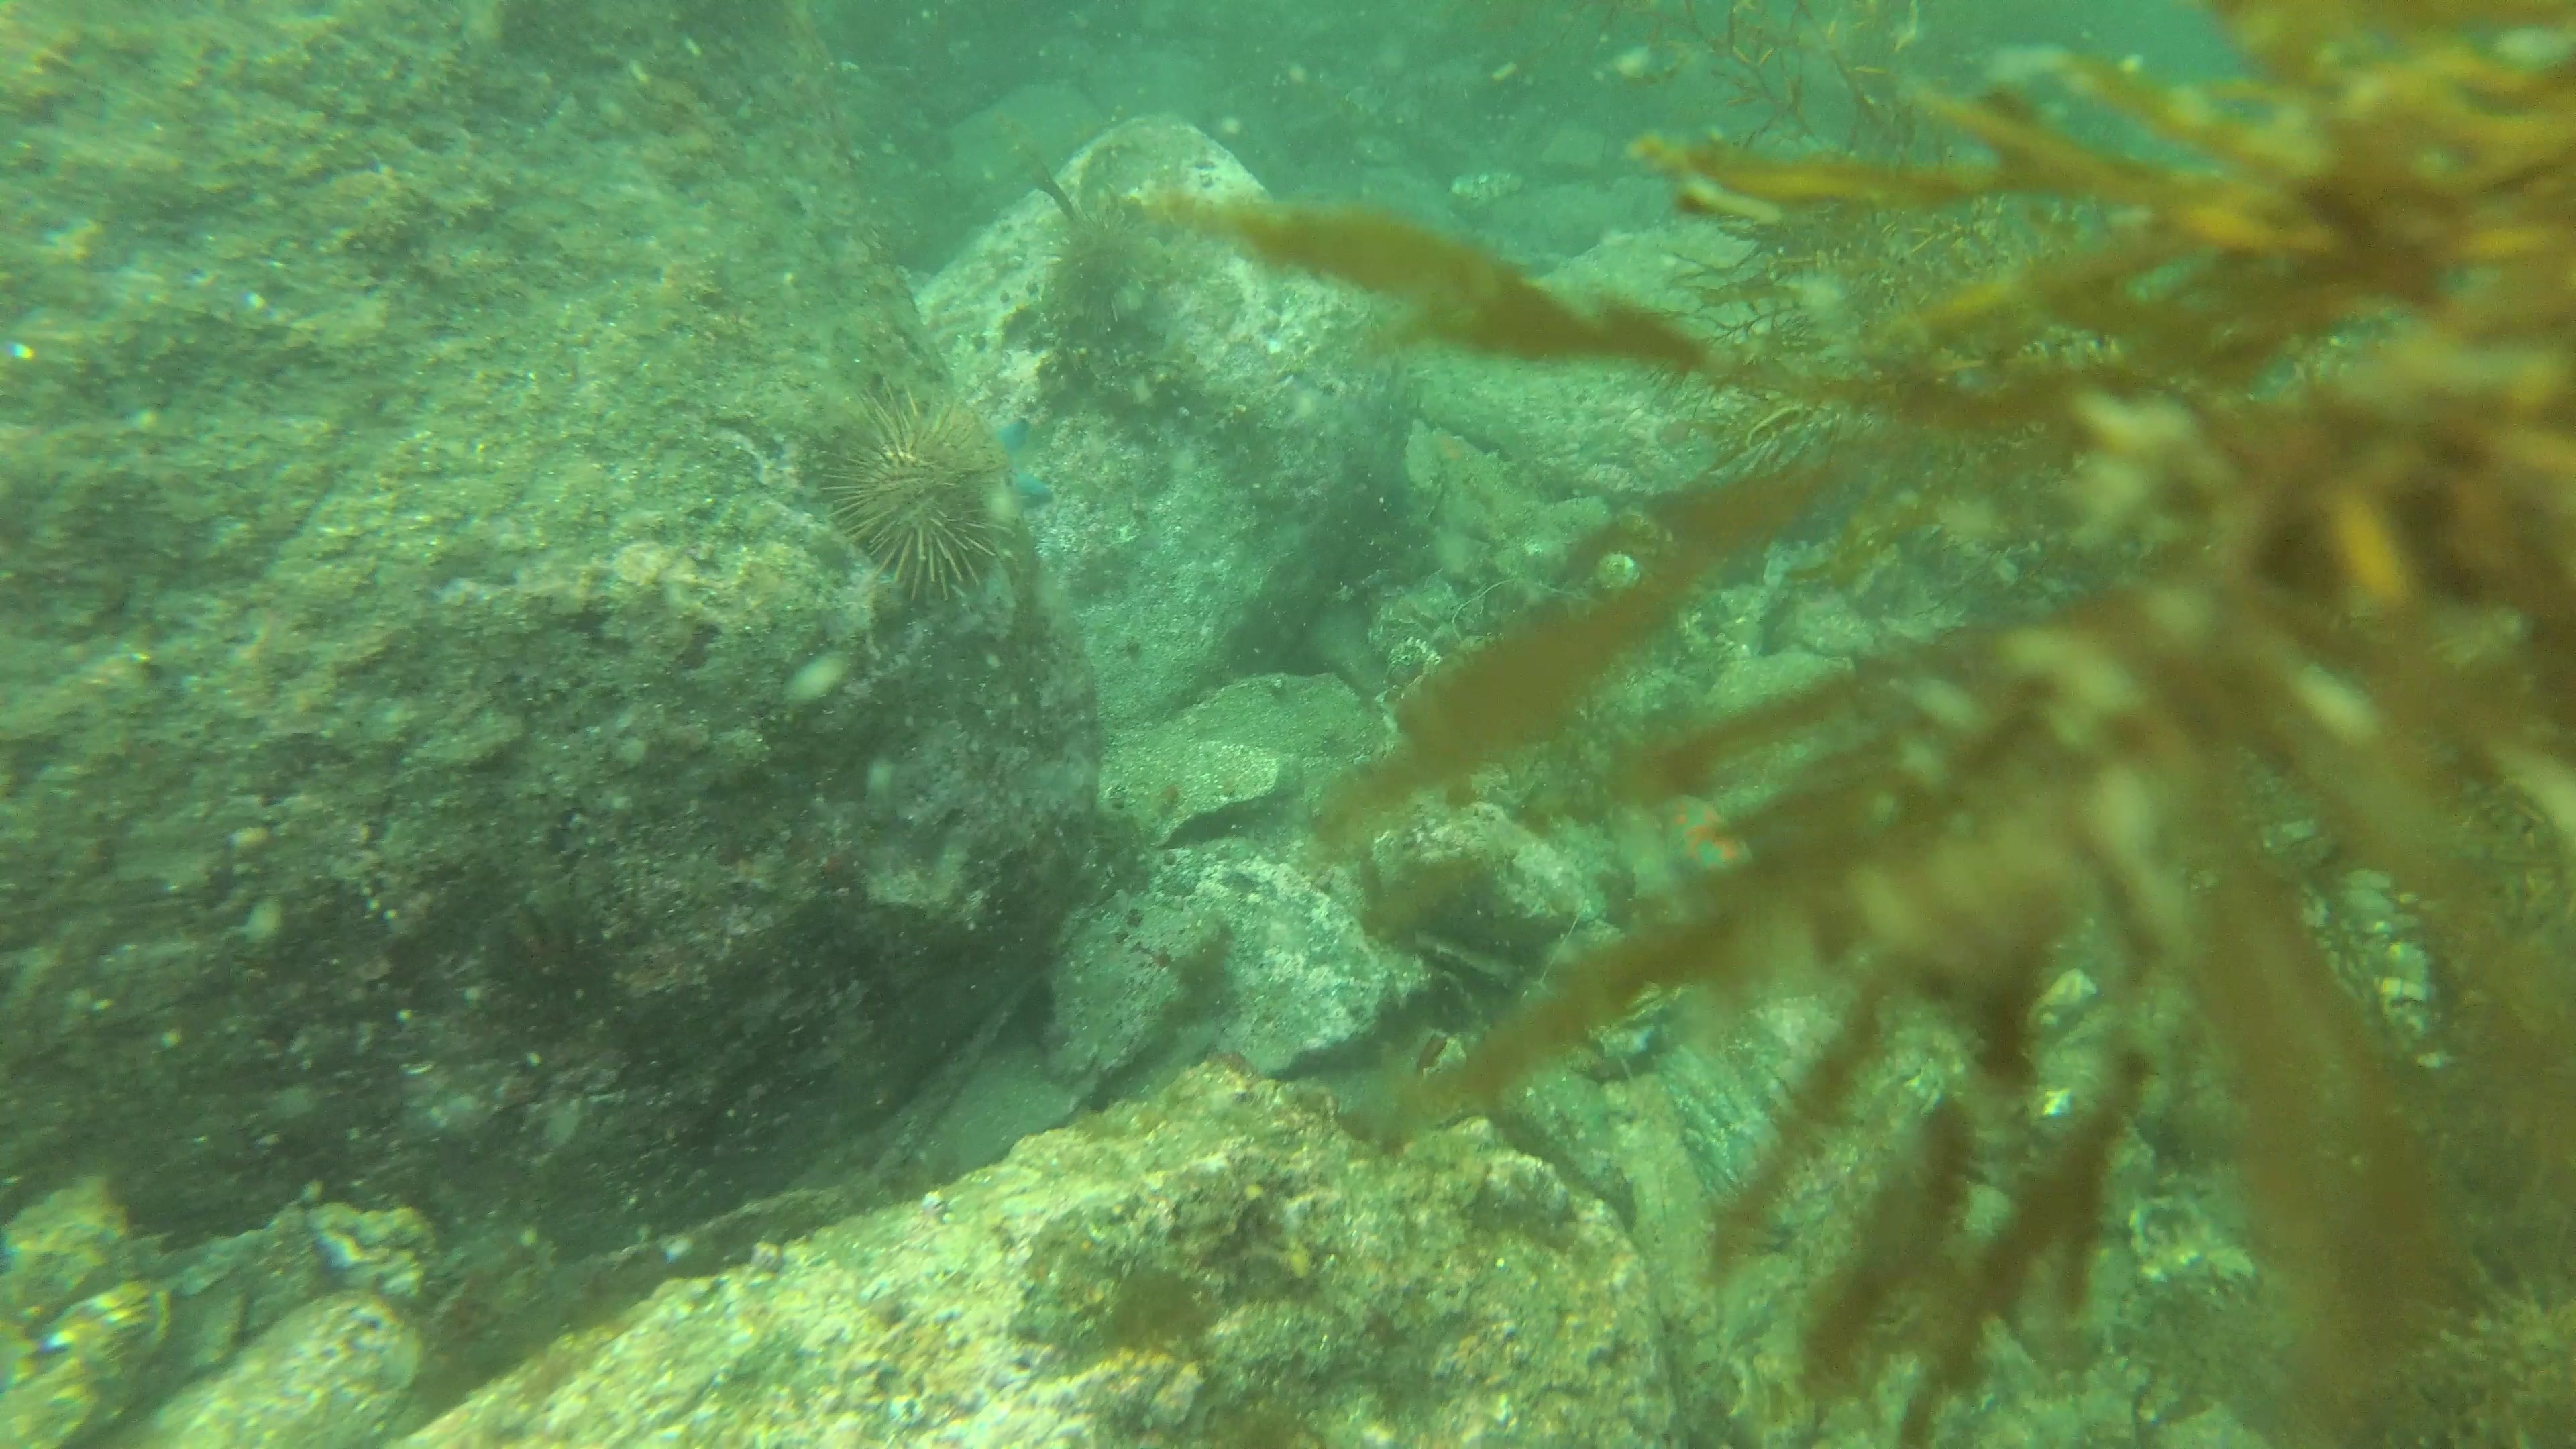echinus: (814, 386, 1014, 602), (1035, 198, 1175, 341)
starfish: (980, 403, 1062, 531), (1658, 787, 1753, 878)
